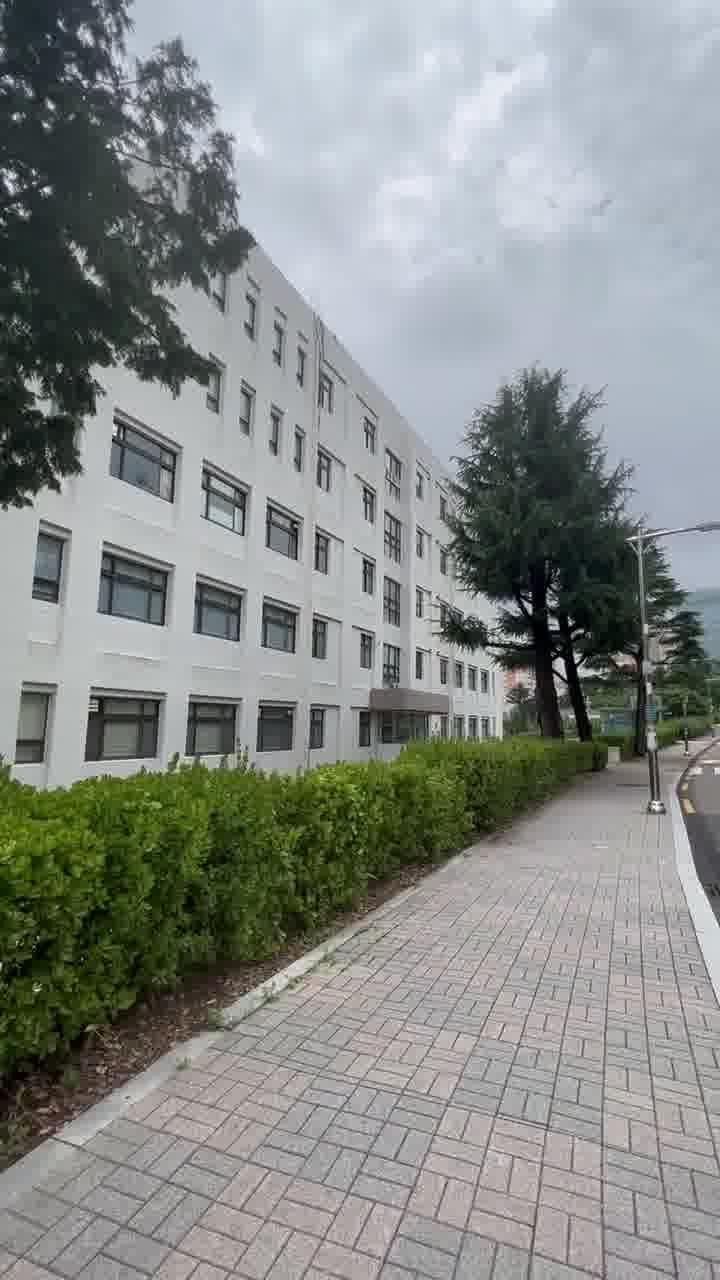building: (156, 282, 438, 742)
